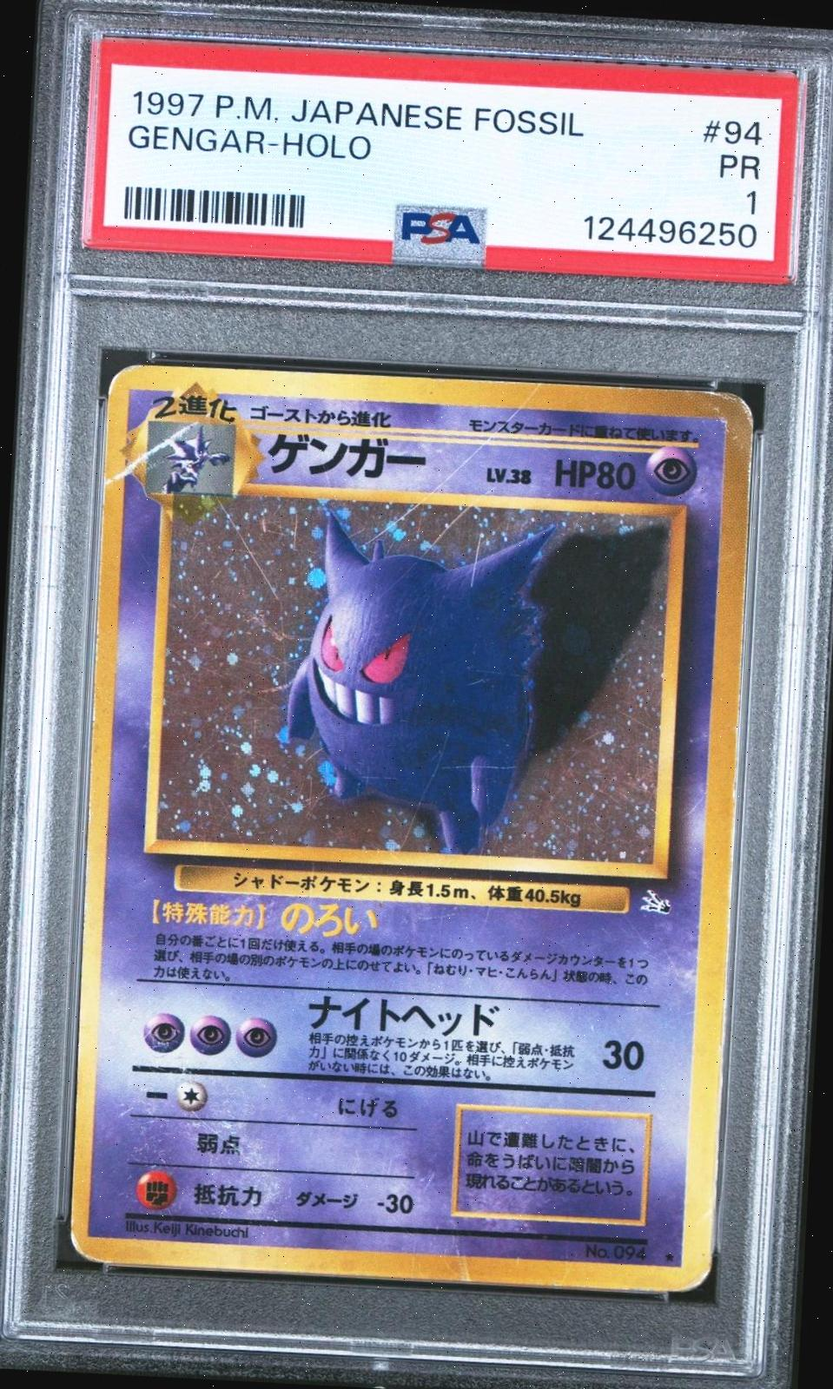card-2UtV: (69, 364, 754, 1292)
